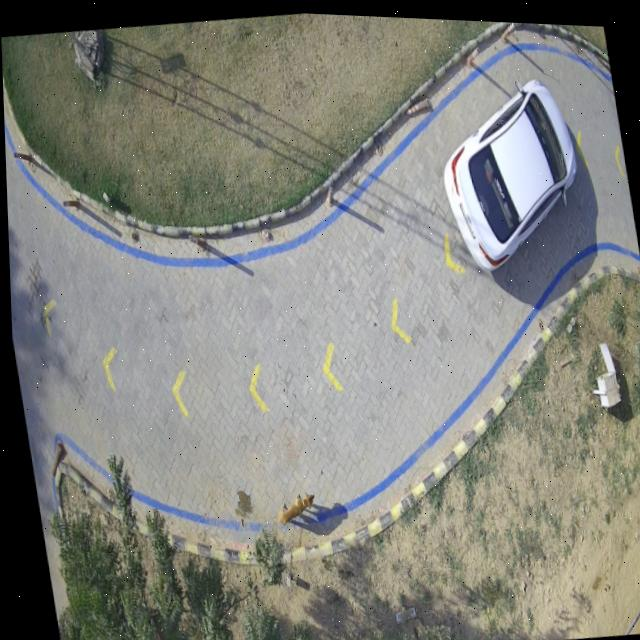car: (442, 75, 575, 267)
